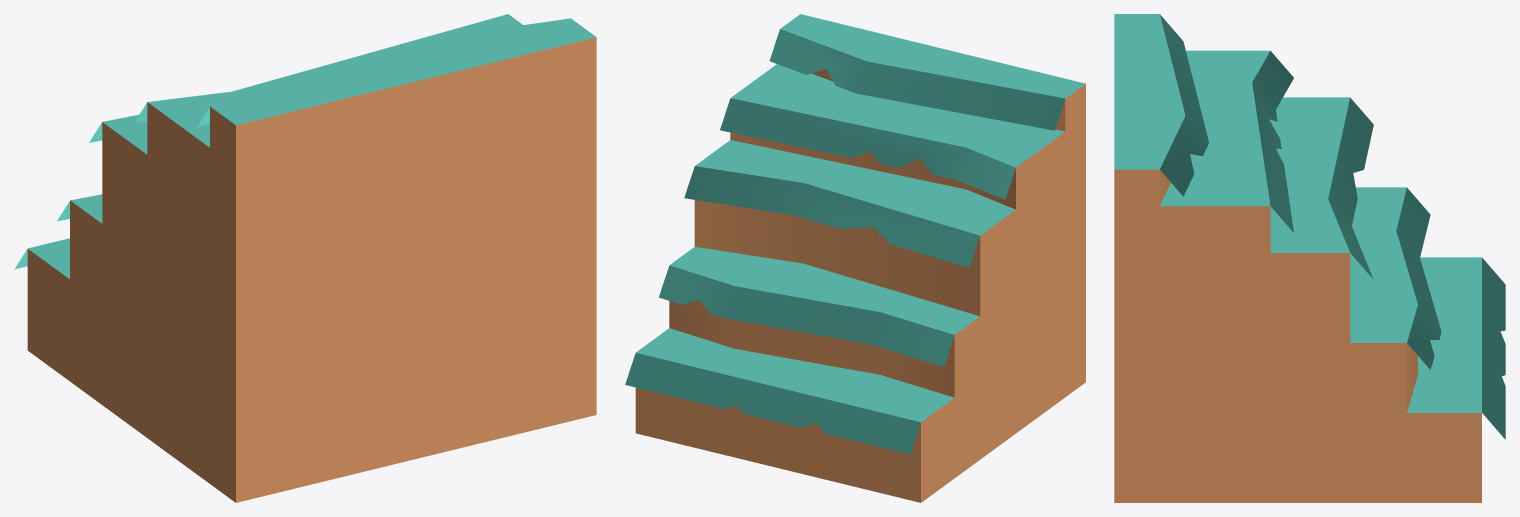
File: cliffBrown_steps.obj
The picture shows the model from 3 angles, left to right: view 1: azimuth 30°, elevation 25°; view 2: azimuth 150°, elevation 25°; view 3: azimuth 270°, elevation 25°; orthographic projection. The views are drawn at different scales.
Visible parts, largest first — view 1: cliffBrown_steps; view 2: cliffBrown_steps; view 3: cliffBrown_steps.
Boxes of the visible parts, x1,y1,x2,y2 form: cliffBrown_steps: [14, 14, 596, 502]; cliffBrown_steps: [625, 14, 1085, 502]; cliffBrown_steps: [1114, 14, 1505, 502].
Size of the model in its own units: 10 by 10 by 10.64.
